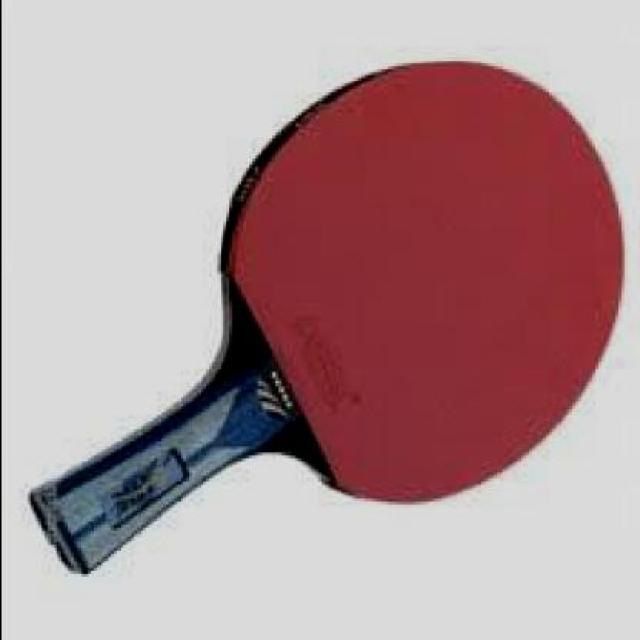table_tennis_racket: (214, 52, 632, 510)
